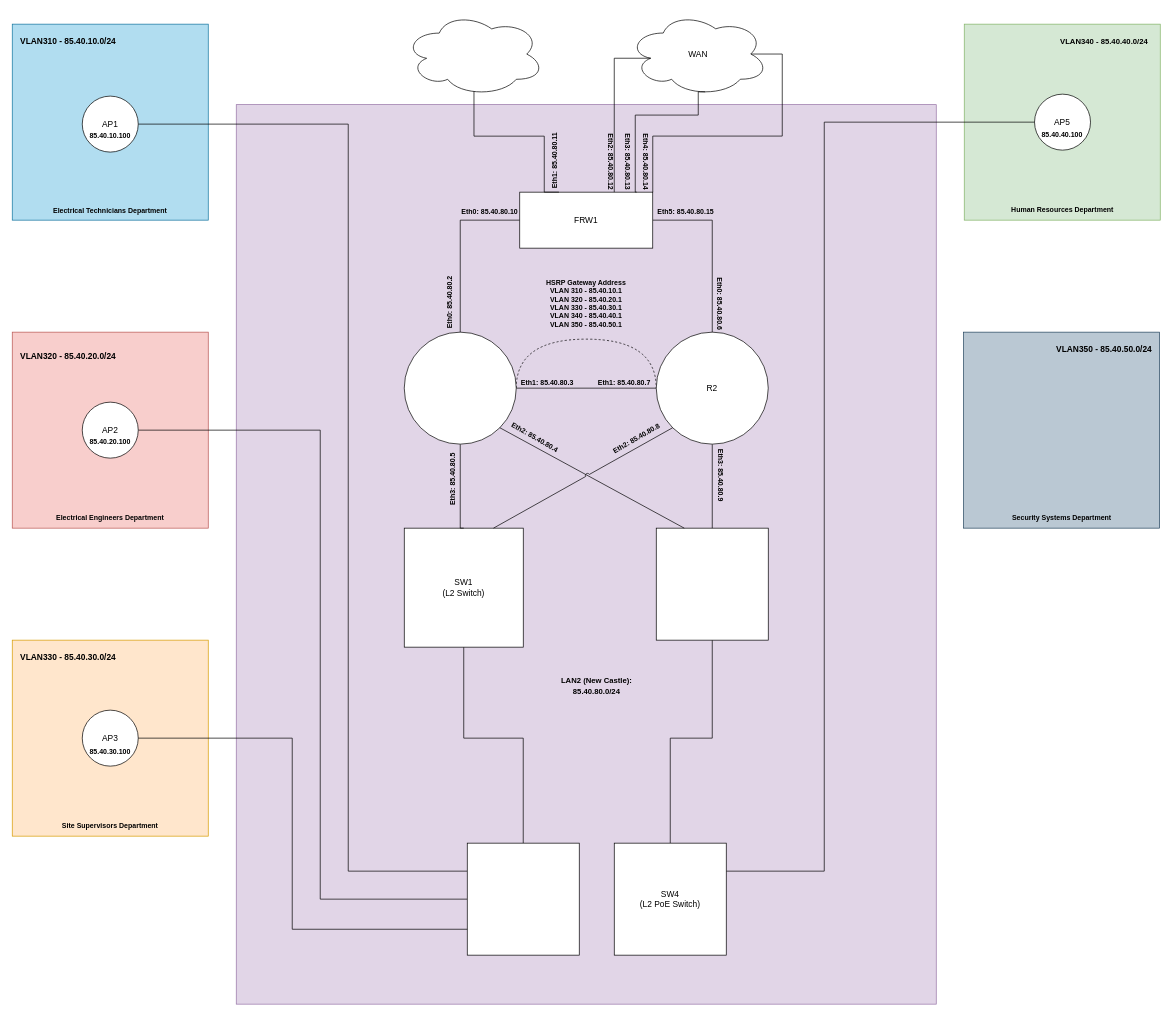
This 1173x1017 diagram has some shape labels left out. Each missing label, with the centre of its shape:
"ISP" goes at point (474, 53).
"R1" goes at point (460, 387).
"SW2 (L2 Switch)" goes at point (712, 583).
"SW3 (L2 PoE Switch)" goes at point (523, 898).
